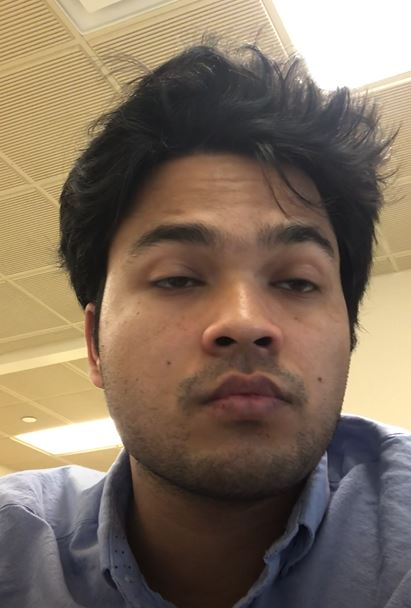Half Asleep: (126, 252, 338, 315)
